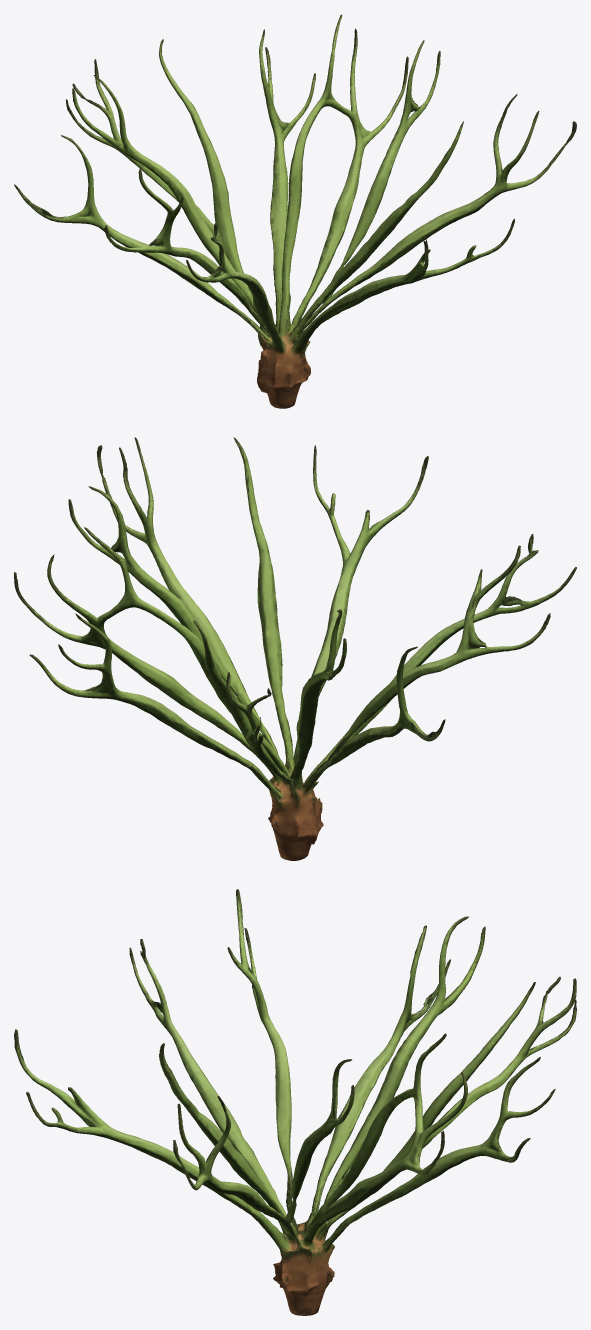
3 views of the same model, one above another, from view 1: azimuth 30°, elevation 25°; view 2: azimuth 150°, elevation 25°; view 3: azimuth 270°, elevation 25° (orthographic). The views are drawn at different scales.
Parts seen in each view (by area): view 1: world; view 2: world; view 3: world.
Part boxes in pixels (left/top/right/bottom): world: left=14, top=14, right=576, bottom=408; world: left=14, top=437, right=576, bottom=860; world: left=14, top=889, right=576, bottom=1315.
Bounding box in the file's own units: 0.1792 × 0.1212 × 0.18.
Materials: 1 (1 with a texture image).
